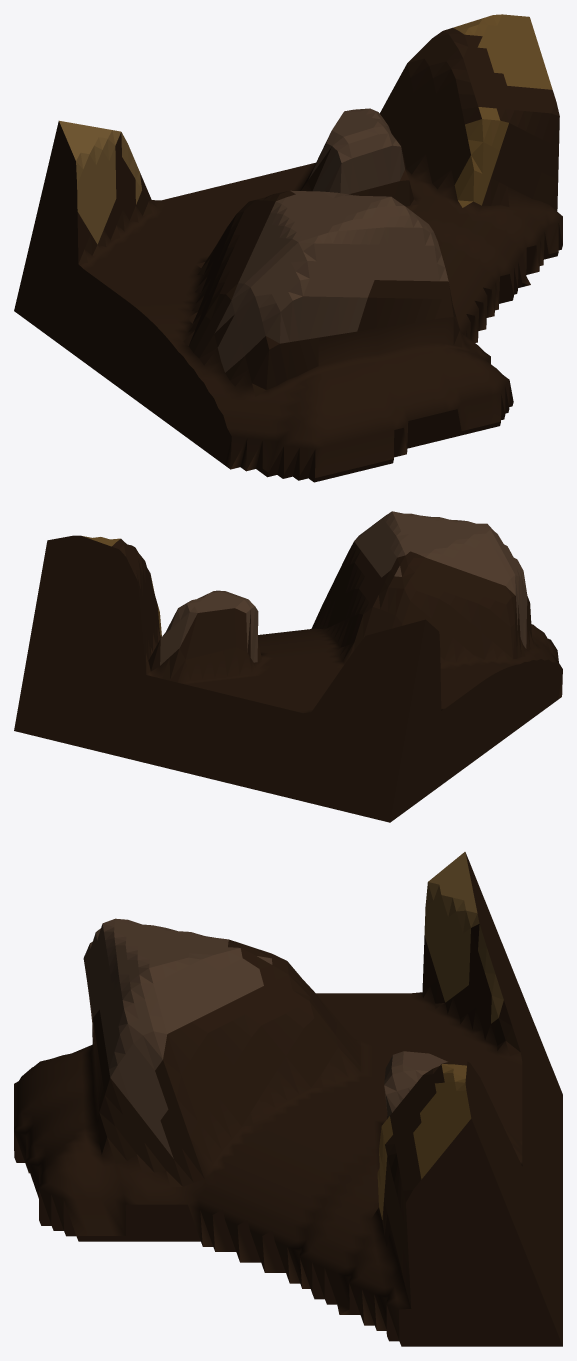
The model's file is ixm_boss_277.glb.
3 views of the same model, one above another, from view 1: azimuth 30°, elevation 25°; view 2: azimuth 150°, elevation 25°; view 3: azimuth 270°, elevation 25° (orthographic). The views are drawn at different scales.
Parts seen in each view (by area): view 1: ixm_boss_277; view 2: ixm_boss_277; view 3: ixm_boss_277.
Boxes of the visible parts, <box> form: ixm_boss_277: <box>14,14,562,482</box>; ixm_boss_277: <box>14,511,562,822</box>; ixm_boss_277: <box>14,852,562,1346</box>.
Size of the model in its own units: 24 by 10.8 by 22.1.
